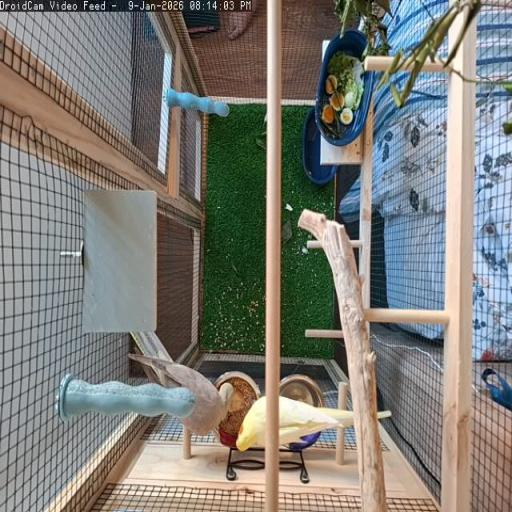bebedero: (279, 375, 325, 406), (290, 432, 320, 450)
comedero: (214, 372, 261, 448)
ninfa: (130, 354, 234, 434), (279, 397, 354, 444), (237, 397, 266, 450)
